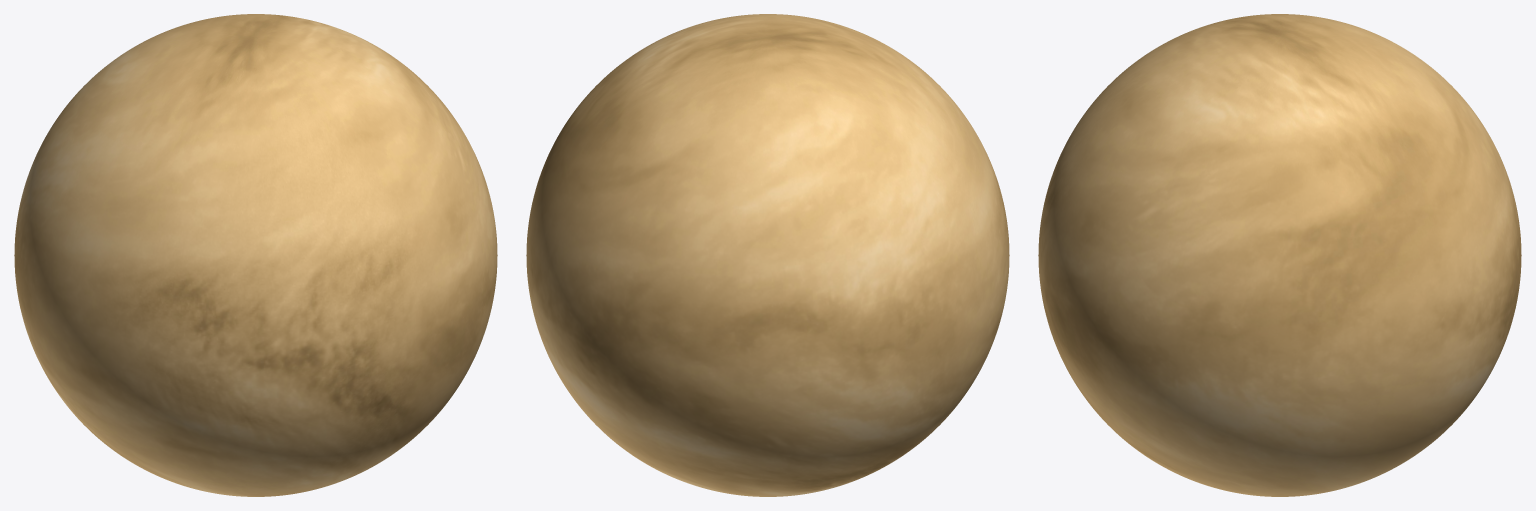
The model's file is venus.glb.
The picture shows the model from 3 angles, left to right: view 1: azimuth 30°, elevation 25°; view 2: azimuth 150°, elevation 25°; view 3: azimuth 270°, elevation 25°; orthographic projection.
Visible parts, largest first — view 1: Venus; view 2: Venus; view 3: Venus.
Boxes of the visible parts, x1,y1,x2,y2 form: Venus: [14, 14, 497, 496]; Venus: [526, 14, 1009, 496]; Venus: [1038, 14, 1521, 496].
Size of the model in its own units: 2 by 2 by 2.
1 material, 1 textured.
